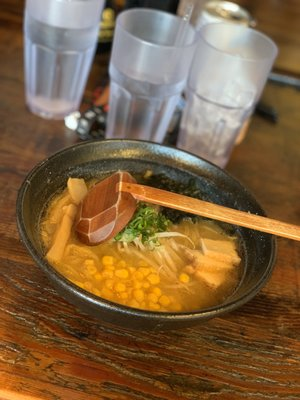curry: (113, 204, 171, 250)
pizza: (176, 22, 278, 171), (105, 7, 202, 145), (22, 0, 105, 119)
salad: (103, 180, 300, 242)
sushi: (15, 138, 291, 332)
